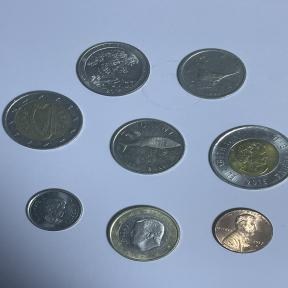coin: (202, 119, 288, 196), (0, 86, 85, 154), (101, 202, 188, 266), (106, 114, 189, 180), (72, 38, 154, 98), (207, 204, 278, 258), (22, 185, 86, 235)
